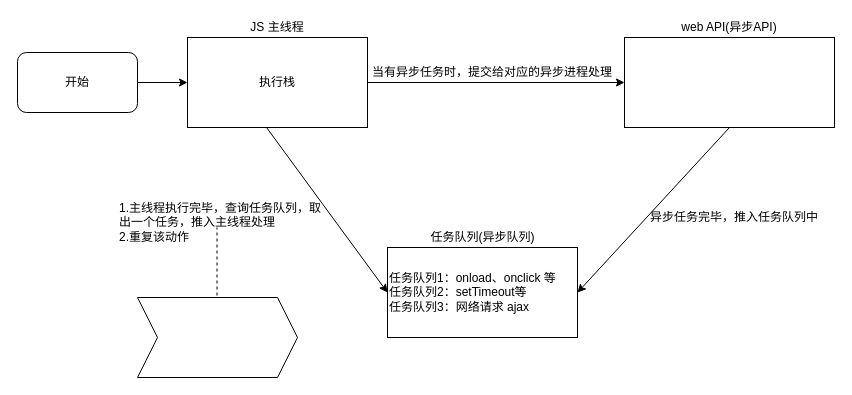
The diagram is 852 pixels wide and 395 high, and some of its shapes have lost their labels. Each missing label, with the centre of its shape:
"1. ajax(网络模块) 2. DOM事件(DOM 模块) 3. setTimeout、setInterval(timer 模块)" belongs at point (729, 82).
"该过程称为事件循环" belongs at point (217, 337).
